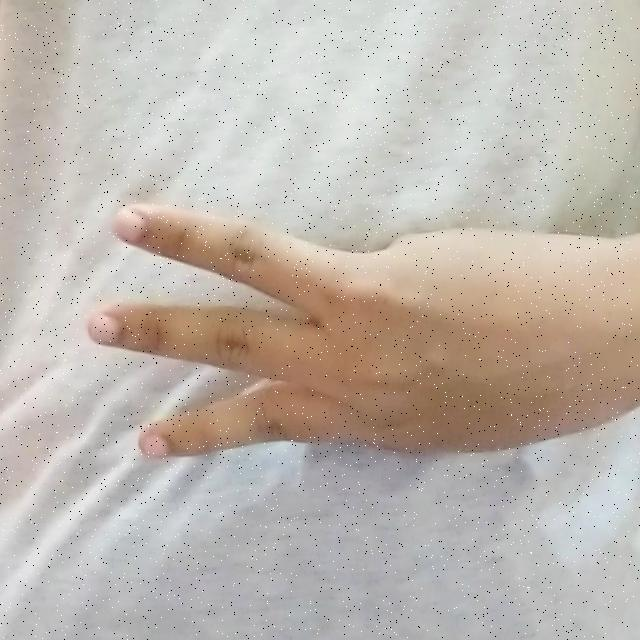E: (80, 188, 632, 474)
